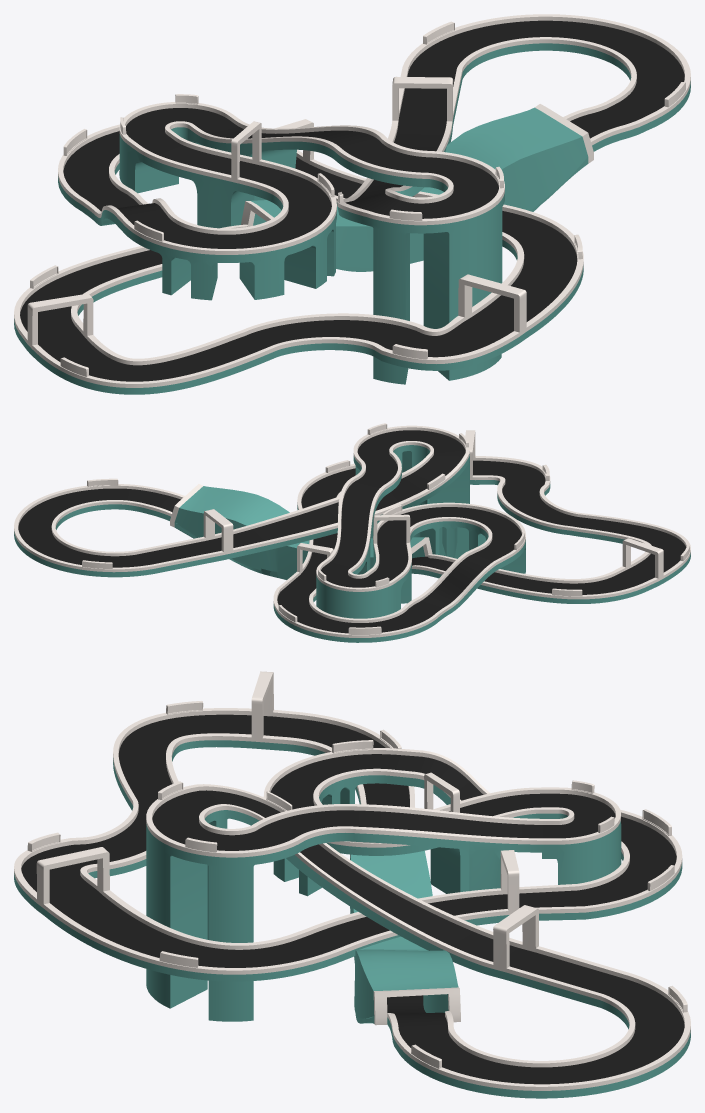
The model's file is thefinaltrack.fbx.
The picture shows the model from 3 angles, top to bottom: view 1: azimuth 30°, elevation 25°; view 2: azimuth 150°, elevation 25°; view 3: azimuth 270°, elevation 25°; orthographic projection. The views are drawn at different scales.
Parts seen in each view (by area): view 1: Track; view 2: Track; view 3: Track.
Boxes of the visible parts, box(x1,y1,x2,y2) form: Track: box(14, 14, 690, 394); Track: box(14, 423, 690, 642); Track: box(14, 671, 690, 1098).
Size of the model in its own units: 11742 by 2482 by 8597.
